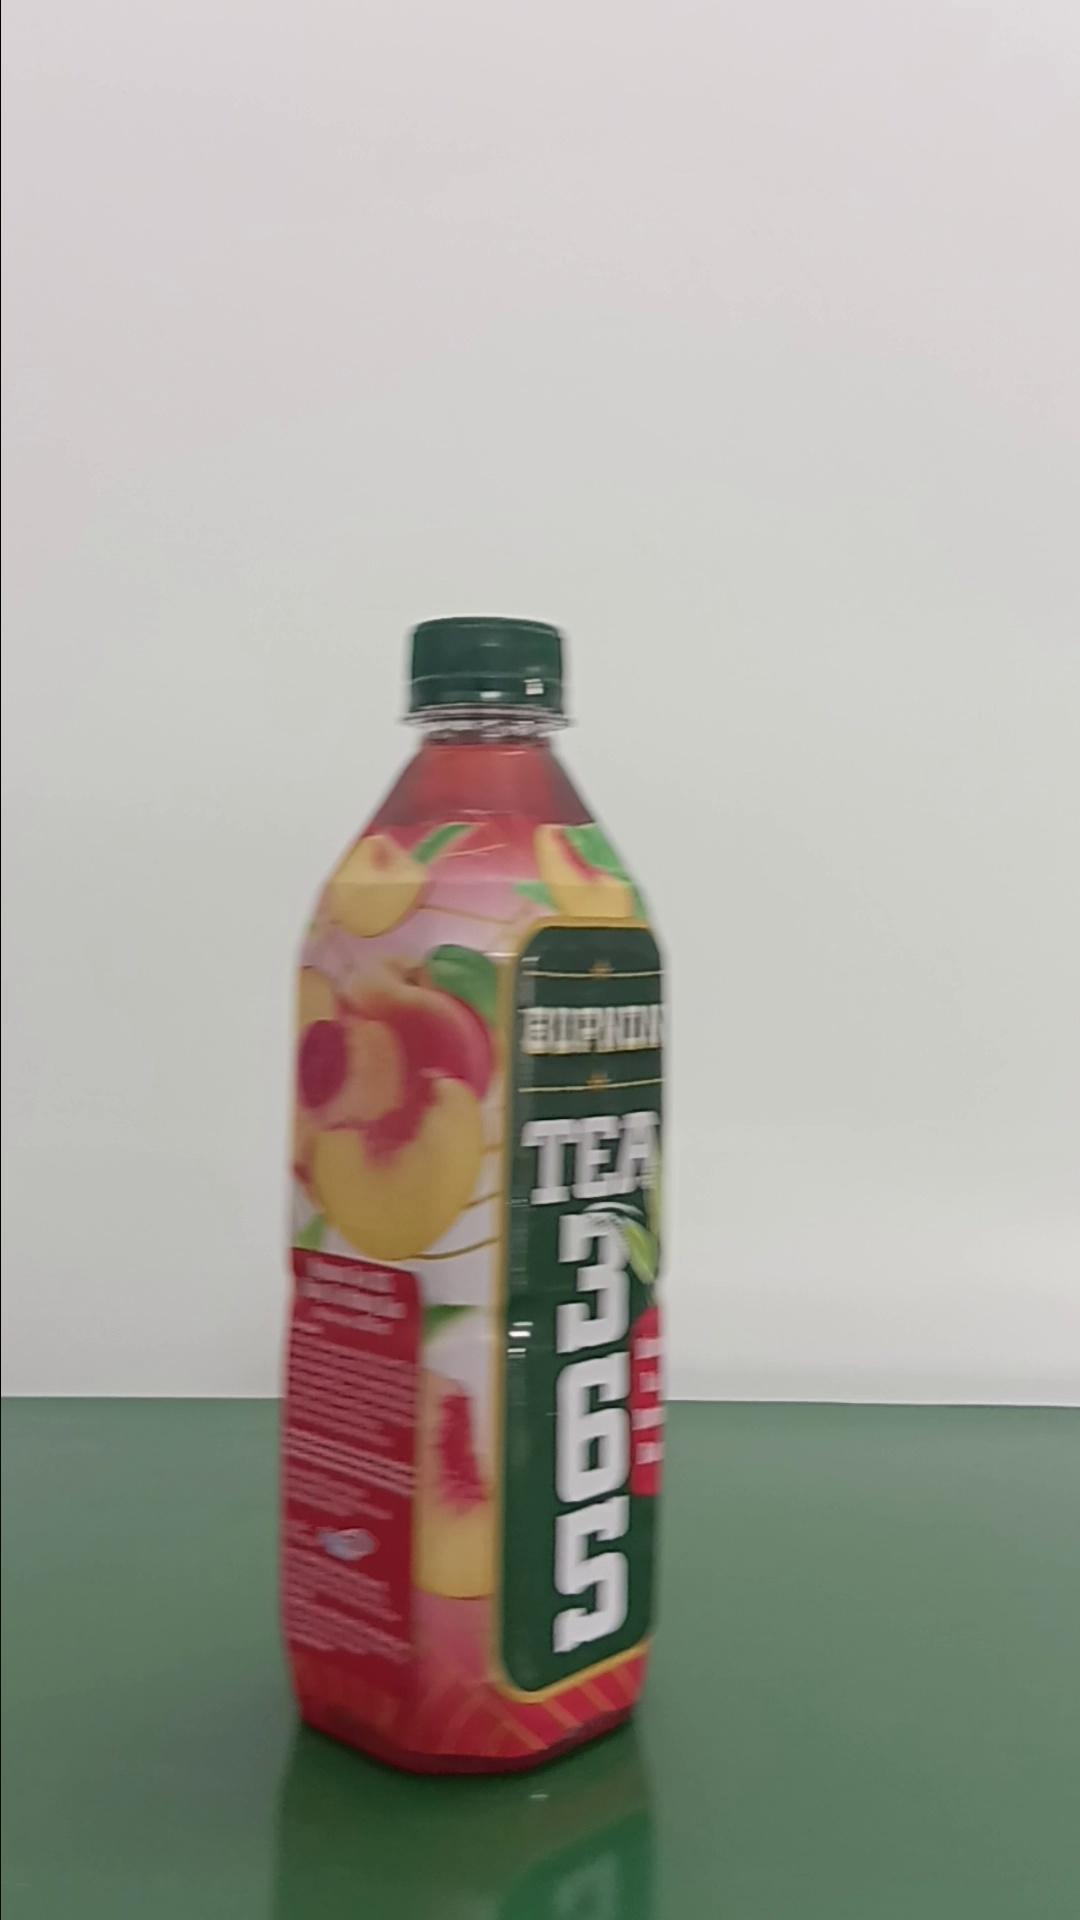khong loi: (274, 612, 671, 1778)
